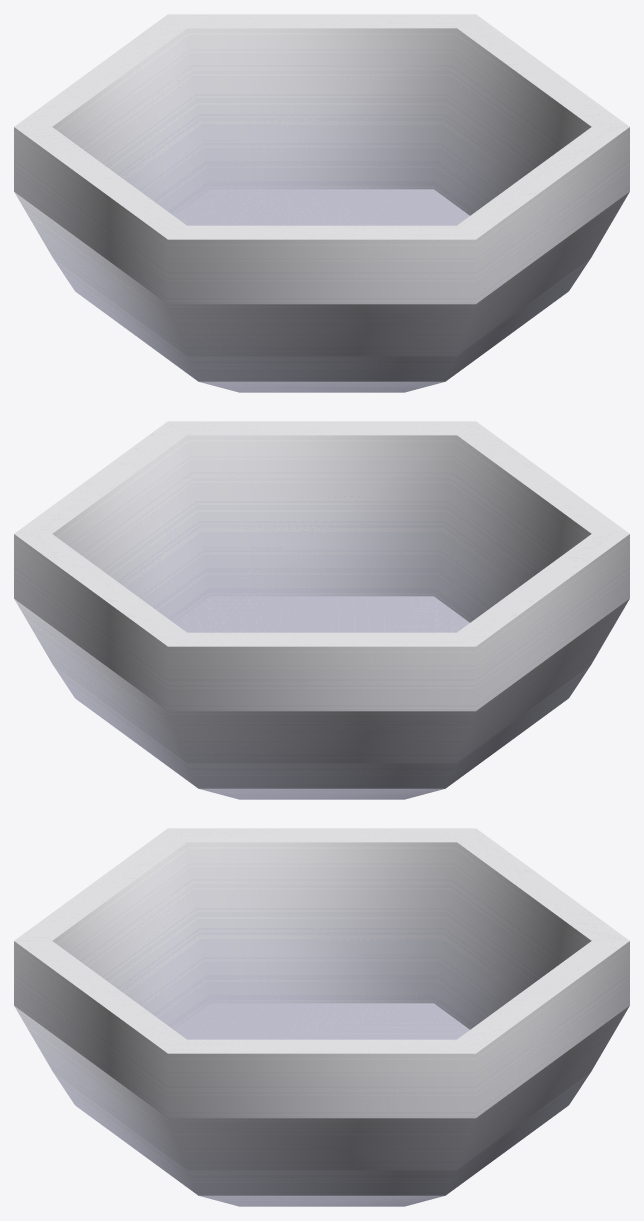
Rendered from food-bowl.glb.
3 renders of one model, top to bottom at view 1: azimuth 30°, elevation 25°; view 2: azimuth 150°, elevation 25°; view 3: azimuth 270°, elevation 25°, orthographic.
Visible parts, largest first — view 1: bowl; view 2: bowl; view 3: bowl.
Boxes of the visible parts, x1,y1,x2,y2 form: bowl: (14,14,629,392); bowl: (14,421,629,799); bowl: (14,828,629,1206).
Size of the model in its own units: 0.5022 by 0.2138 by 0.5798.
Materials: 1 (1 with a texture image).
